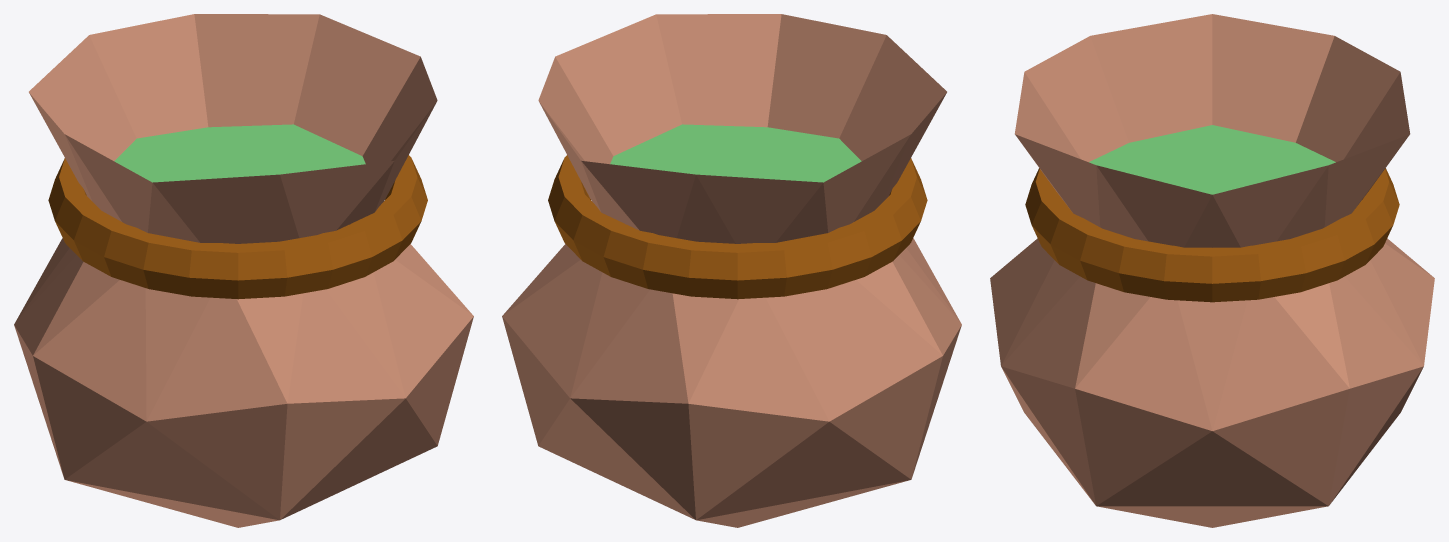
File: Catnip_3DModel_4.fbx
3 views of the same model, side by side, from view 1: azimuth 30°, elevation 25°; view 2: azimuth 150°, elevation 25°; view 3: azimuth 270°, elevation 25° (orthographic).
Parts seen in each view (by area): view 1: Catnip; view 2: Catnip; view 3: Catnip.
Boxes of the visible parts, <box> form: Catnip: <box>14,14,473,527</box>; Catnip: <box>502,14,961,527</box>; Catnip: <box>990,14,1434,527</box>.
Bounding box in the file's own units: 0.8895 × 0.9258 × 0.8671.
